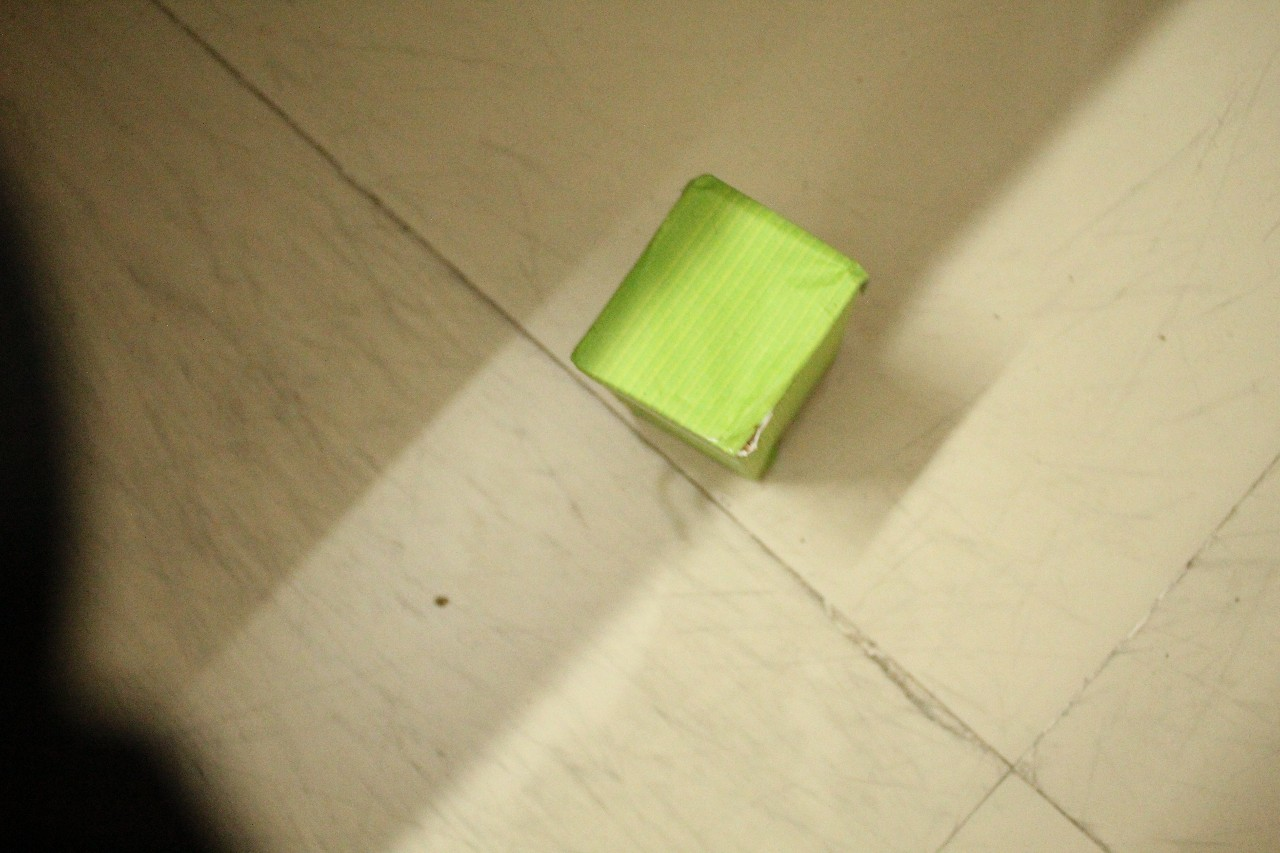green: (555, 159, 884, 496)
